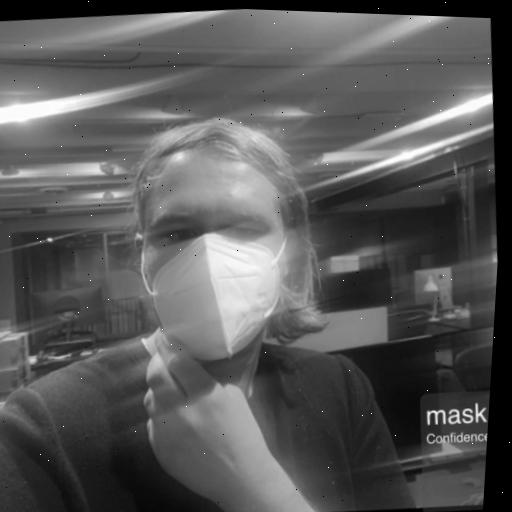mask: (94, 86, 336, 373)
